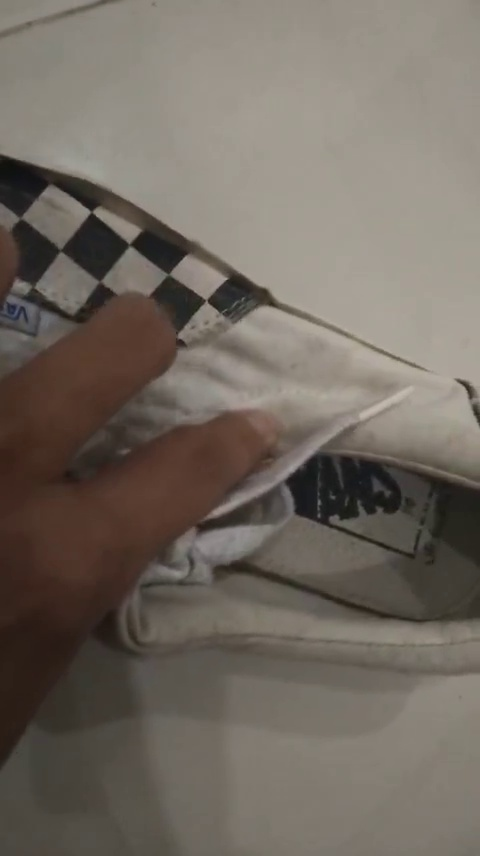bonding: (46, 167, 274, 298)
